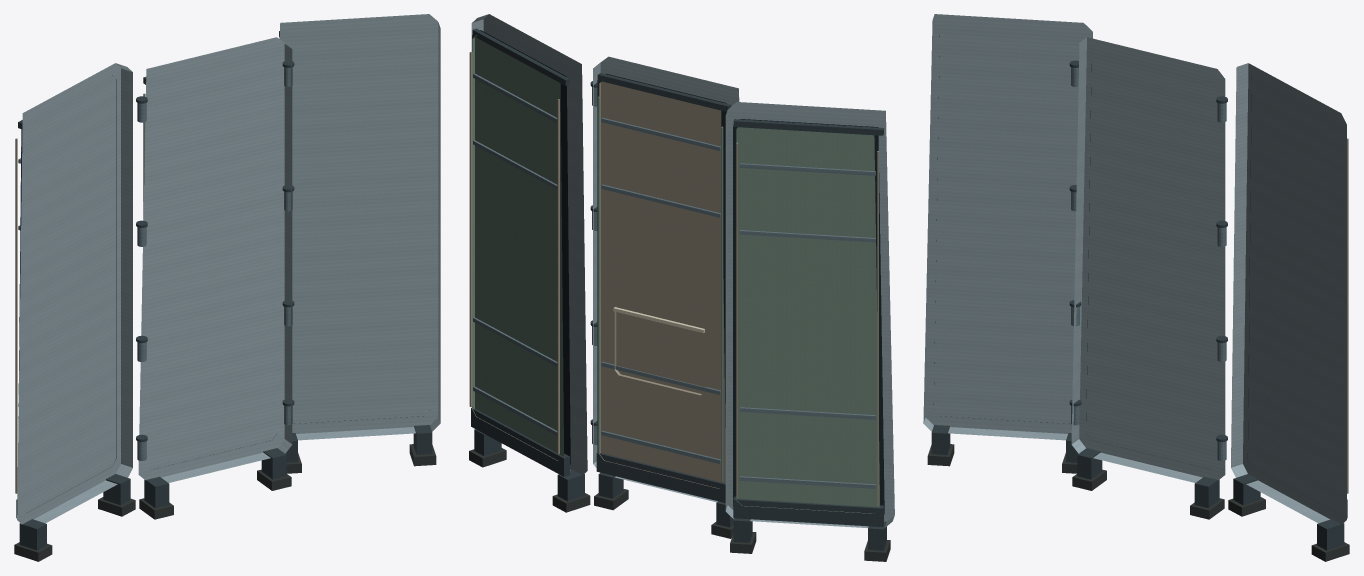
File: privacy_divider.glb
The picture shows the model from 3 angles, left to right: view 1: azimuth 30°, elevation 25°; view 2: azimuth 150°, elevation 25°; view 3: azimuth 330°, elevation 25°; orthographic projection.
Visible parts, largest first — view 1: Panel_Right__alloy, Panel_Centre__alloy, Panel_Left__alloy, Panel_Left__graphite, Hinges__trim, Panel_Centre__graphite, Panel_Left__fabricwarm, Panel_Left__rubber, Panel_Centre__rubber, Panel_Right__graphite, Panel_Left__carbon, Hinges__graphite (+1 smaller); view 2: Panel_Left__fabric, Panel_Centre__fabricwarm, Panel_Right__fabric, Panel_Left__alloy, Panel_Right__alloy, Panel_Left__graphite, Panel_Centre__graphite, Panel_Centre__alloy, Panel_Right__graphite, Panel_Left__carbon, Panel_Left__trim, Panel_Right__carbon (+9 smaller); view 3: Panel_Centre__alloy, Panel_Left__alloy, Panel_Right__alloy, Panel_Right__graphite, Panel_Centre__graphite, Hinges__trim, Panel_Right__rubber, Panel_Centre__rubber, Panel_Left__graphite, Panel_Right__fabricwarm, Hinges__graphite, Panel_Left__rubber.
Part boxes in pixels (left/top/right/bottom): Panel_Right__alloy: left=280, top=14, right=440, bottom=440; Panel_Centre__alloy: left=138, top=37, right=292, bottom=482; Panel_Left__alloy: left=17, top=63, right=132, bottom=524; Panel_Left__graphite: left=16, top=120, right=130, bottom=550; Hinges__trim: left=137, top=67, right=292, bottom=460; Panel_Centre__graphite: left=143, top=77, right=286, bottom=508; Panel_Left__fabricwarm: left=15, top=138, right=17, bottom=493; Panel_Left__rubber: left=14, top=497, right=135, bottom=561; Panel_Centre__rubber: left=139, top=469, right=291, bottom=519; Panel_Right__graphite: left=279, top=31, right=432, bottom=462; Panel_Left__carbon: left=18, top=75, right=116, bottom=511; Hinges__graphite: left=136, top=61, right=294, bottom=442; Panel_Left__fabric: left=736, top=127, right=879, bottom=513; Panel_Centre__fabricwarm: left=599, top=81, right=725, bottom=488; Panel_Right__fabric: left=472, top=35, right=563, bottom=460; Panel_Left__alloy: left=725, top=102, right=894, bottom=528; Panel_Right__alloy: left=471, top=14, right=587, bottom=475; Panel_Left__graphite: left=733, top=119, right=886, bottom=550; Panel_Centre__graphite: left=596, top=73, right=733, bottom=527; Panel_Centre__alloy: left=593, top=56, right=739, bottom=502; Panel_Right__graphite: left=471, top=28, right=584, bottom=501; Panel_Left__carbon: left=733, top=119, right=884, bottom=515; Panel_Left__trim: left=739, top=163, right=875, bottom=488; Panel_Right__carbon: left=472, top=30, right=570, bottom=464; Panel_Centre__alloy: left=1071, top=37, right=1225, bottom=482; Panel_Left__alloy: left=923, top=14, right=1092, bottom=440; Panel_Right__alloy: left=1231, top=63, right=1346, bottom=524; Panel_Right__graphite: left=1233, top=474, right=1347, bottom=550; Panel_Centre__graphite: left=1077, top=448, right=1219, bottom=508; Hinges__trim: left=1071, top=67, right=1226, bottom=460; Panel_Right__rubber: left=1228, top=497, right=1349, bottom=561; Panel_Centre__rubber: left=1072, top=469, right=1224, bottom=519; Panel_Left__graphite: left=931, top=425, right=1078, bottom=462; Panel_Right__fabricwarm: left=1347, top=138, right=1348, bottom=493; Hinges__graphite: left=1069, top=60, right=1227, bottom=442; Panel_Left__rubber: left=927, top=444, right=1077, bottom=473.
Bounding box in the file's own units: 1.92 × 1.92 × 0.3505.
Materials: 8 (8 with a texture image).
